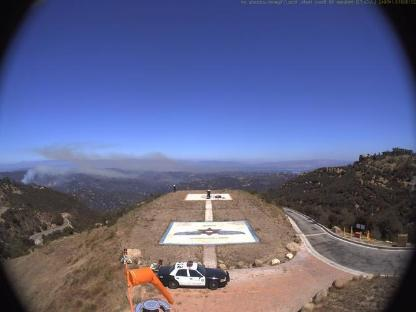smoke: (23, 148, 137, 188)
